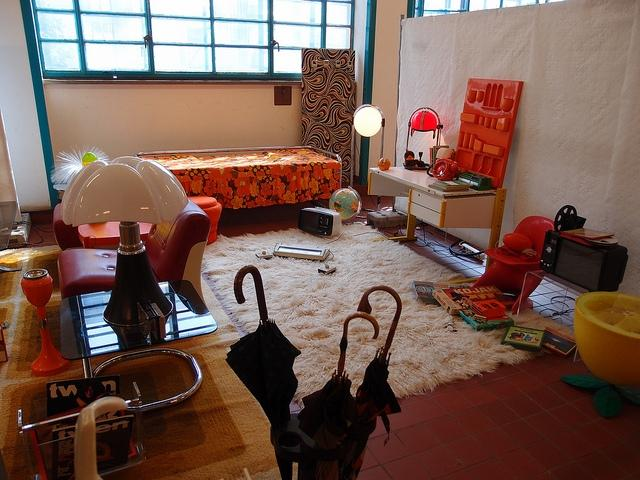lemon: (560, 292, 640, 418)
